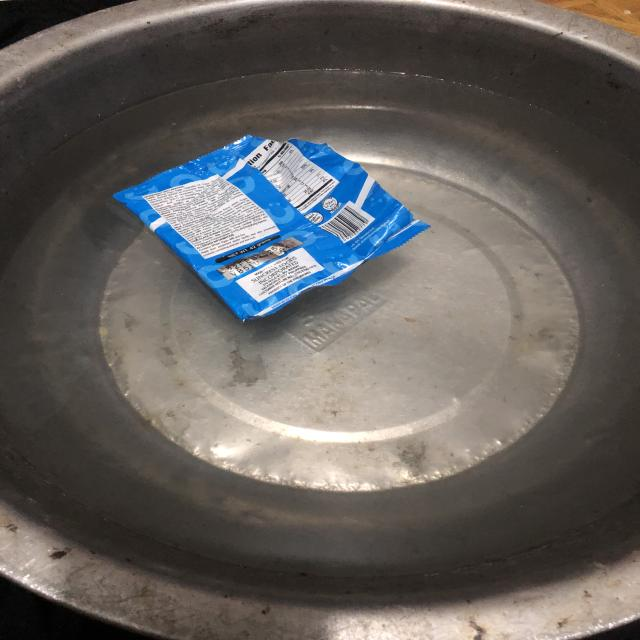Plastic Wrapper: (89, 114, 453, 344)
